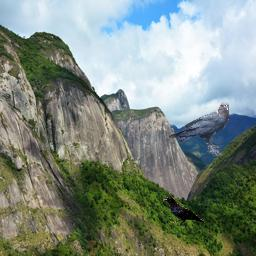Crow: (169, 102, 229, 156), (163, 197, 205, 226)
